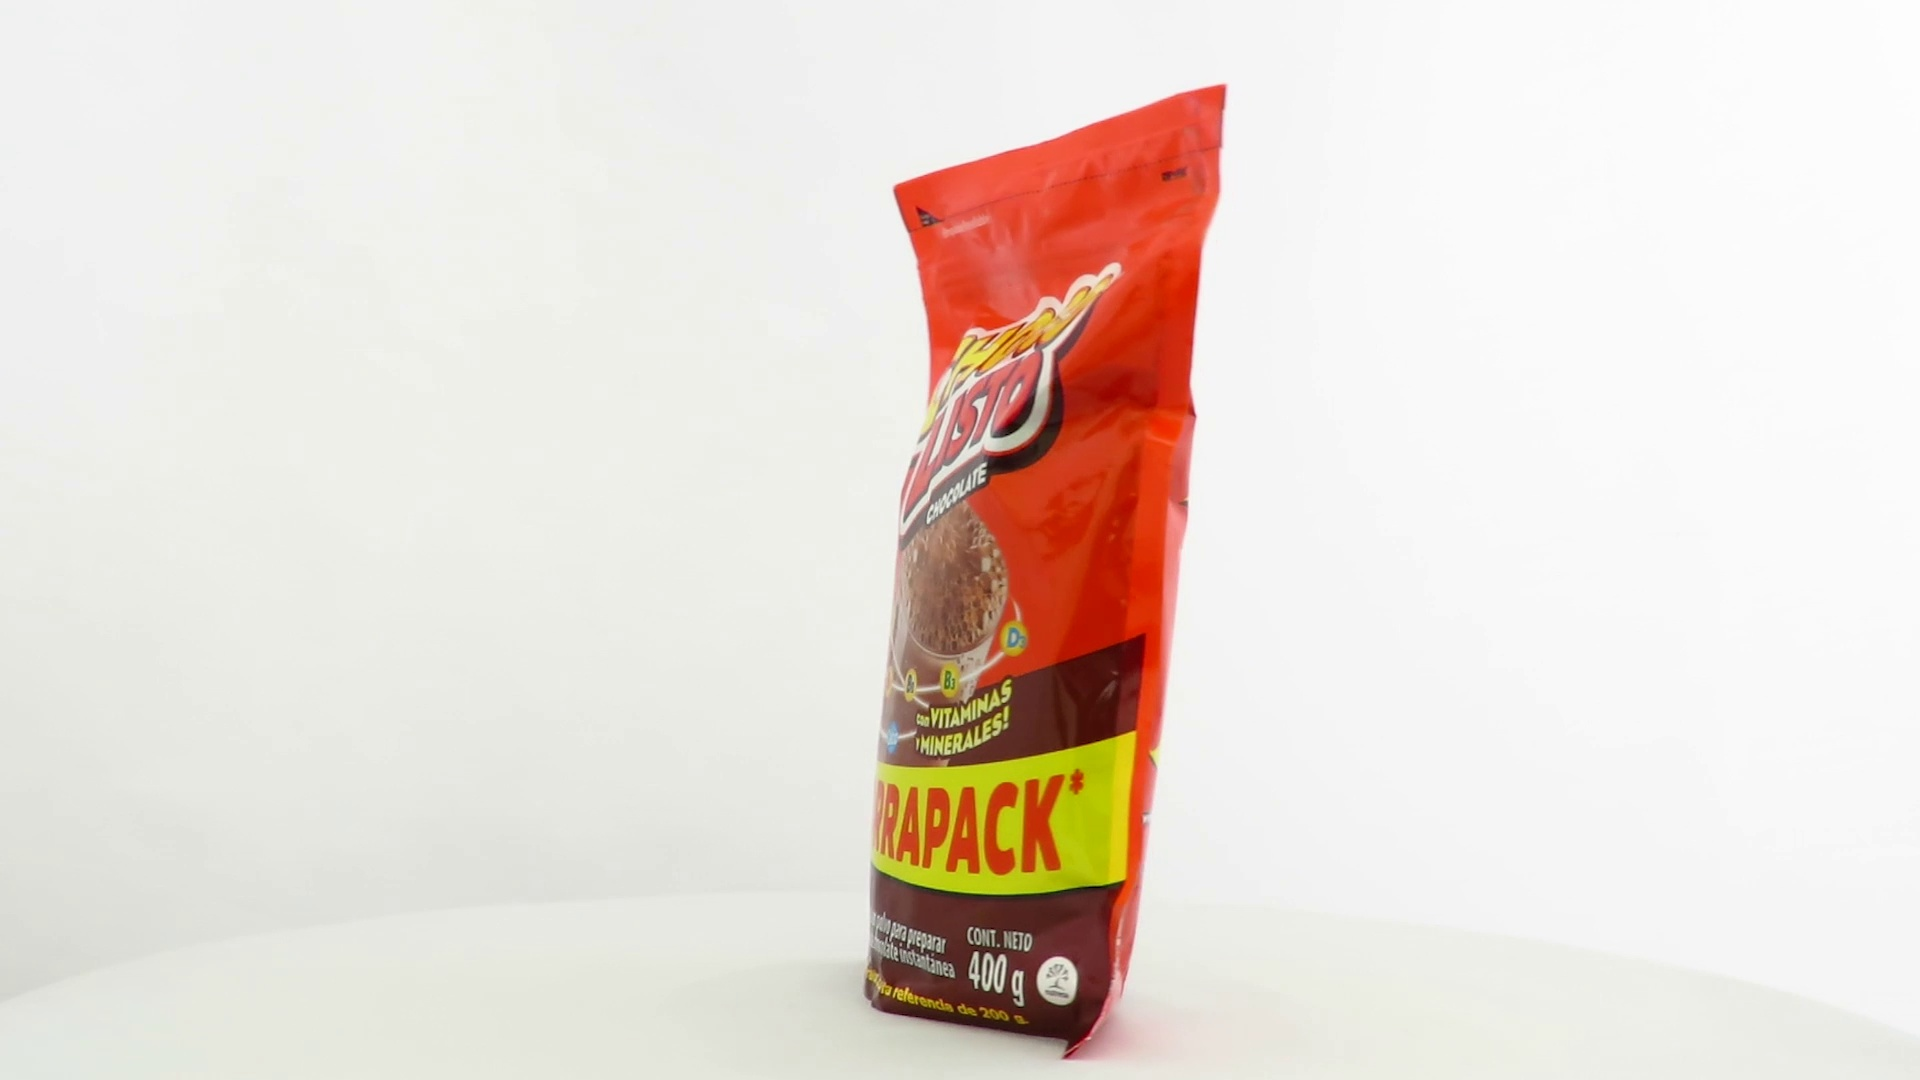COL0170103DYP40000: (858, 79, 1232, 1067)
